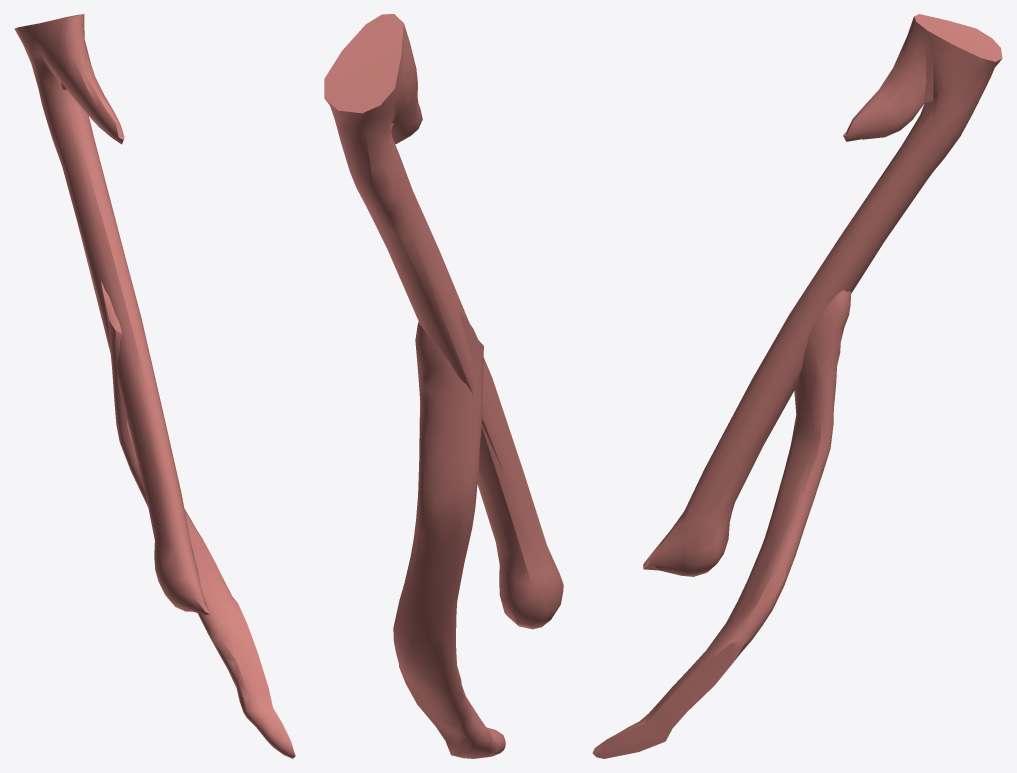
File: fma39645_mm1955.glb
3 renders of one model, left to right at view 1: azimuth 30°, elevation 25°; view 2: azimuth 150°, elevation 25°; view 3: azimuth 270°, elevation 25°, orthographic. The views are drawn at different scales.
Parts seen in each view (by area): view 1: FMA39645_MM1955; view 2: FMA39645_MM1955; view 3: FMA39645_MM1955.
Boxes of the visible parts, x1,y1,x2,y2 form: FMA39645_MM1955: [14, 14, 295, 758]; FMA39645_MM1955: [324, 14, 563, 758]; FMA39645_MM1955: [592, 14, 1002, 758].
Bounding box in the file's own units: 0.00848 × 0.0501 × 0.0264.
